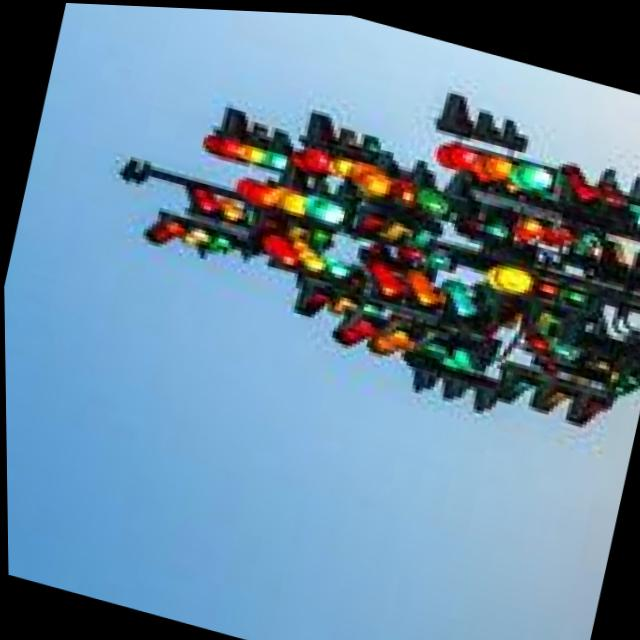red_light: (198, 92, 301, 179)
